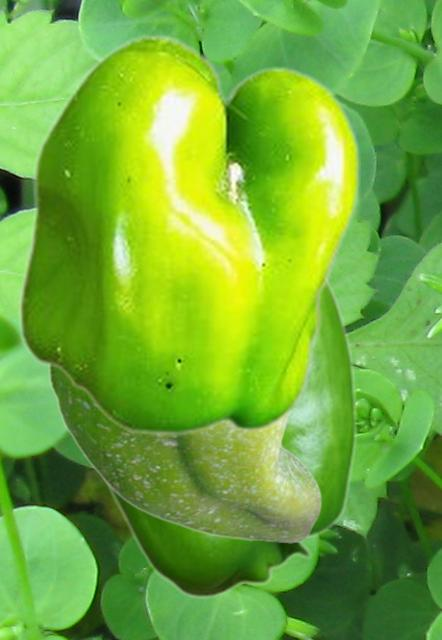bell_pepper: (17, 33, 359, 435), (99, 283, 357, 598), (47, 368, 321, 542)
